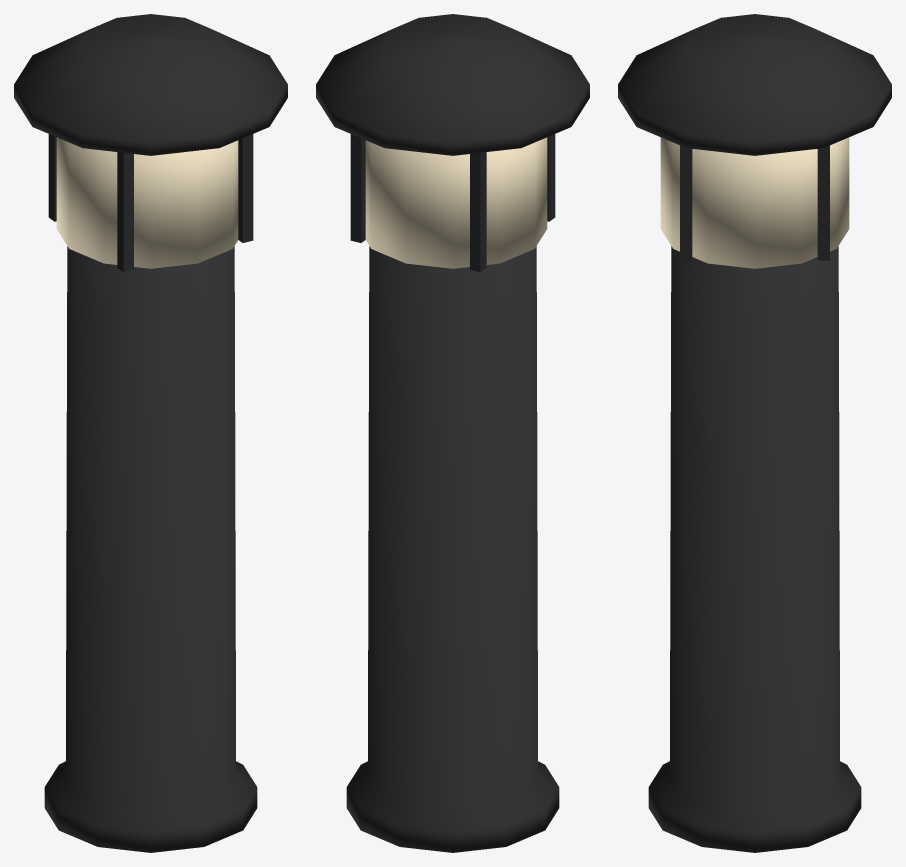
File: pathLight.glb
3 renders of one model, left to right at view 1: azimuth 30°, elevation 25°; view 2: azimuth 150°, elevation 25°; view 3: azimuth 270°, elevation 25°, orthographic.
Visible parts, largest first — view 1: pathLight; view 2: pathLight; view 3: pathLight.
Part boxes in pixels (<box>): pathLight: <box>14,14,287,852</box>; pathLight: <box>316,14,589,852</box>; pathLight: <box>618,14,891,852</box>.
Bounding box in the file's own units: 0.18 × 0.56 × 0.18.
